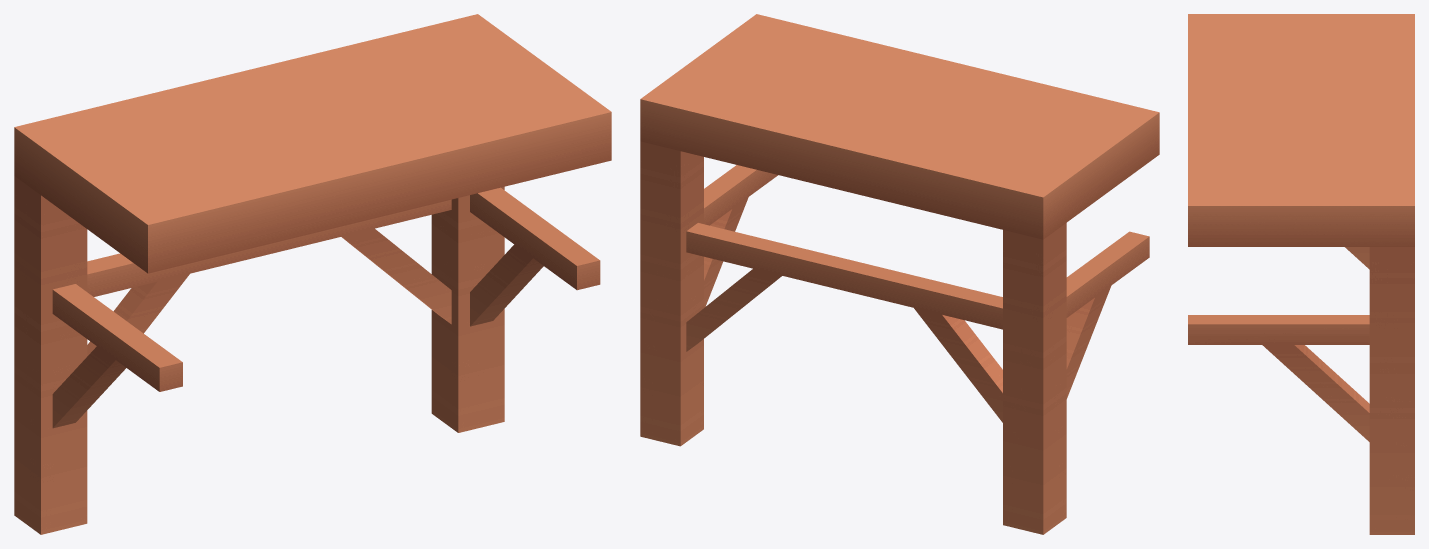
File: structure_platform.glb
The picture shows the model from 3 angles, left to right: view 1: azimuth 30°, elevation 25°; view 2: azimuth 150°, elevation 25°; view 3: azimuth 270°, elevation 25°; orthographic projection. The views are drawn at different scales.
Parts seen in each view (by area): view 1: structure-platform; view 2: structure-platform; view 3: structure-platform.
Part boxes in pixels (x1,y1,x2,y2): structure-platform: [14, 14, 611, 534]; structure-platform: [640, 14, 1159, 534]; structure-platform: [1188, 14, 1414, 534].
Size of the model in its own units: 1 by 0.8 by 0.5.
Materials: 1 (1 with a texture image).
